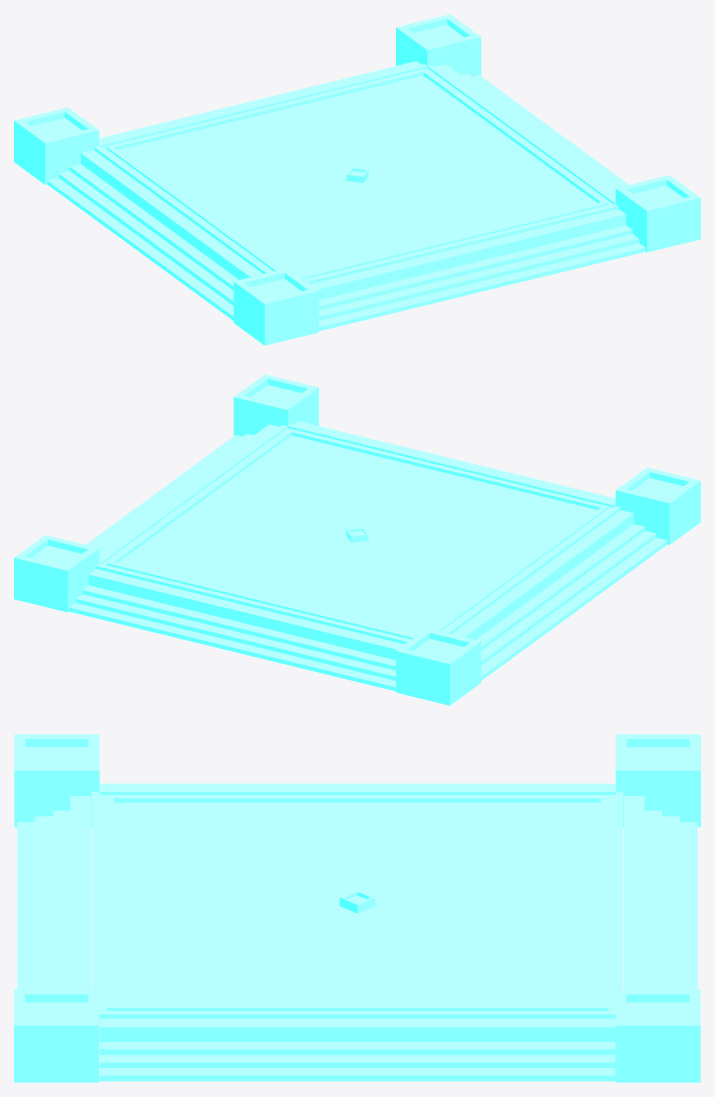
File: Bmap.fbx
The picture shows the model from 3 angles, top to bottom: view 1: azimuth 30°, elevation 25°; view 2: azimuth 150°, elevation 25°; view 3: azimuth 270°, elevation 25°; orthographic projection. The views are drawn at different scales.
Visible parts, largest first — view 1: FortFloor_Lithos_01_Bmap, FortFloor_Lithos_02_Bmap; view 2: FortFloor_Lithos_01_Bmap, FortFloor_Lithos_02_Bmap; view 3: FortFloor_Lithos_01_Bmap, FortFloor_Lithos_02_Bmap.
Part boxes in pixels (box(x1,y1,x2,y2)): FortFloor_Lithos_01_Bmap: box(14, 14, 700, 345); FortFloor_Lithos_02_Bmap: box(117, 75, 597, 275); FortFloor_Lithos_01_Bmap: box(14, 374, 700, 705); FortFloor_Lithos_02_Bmap: box(117, 435, 597, 635); FortFloor_Lithos_01_Bmap: box(14, 734, 700, 1082); FortFloor_Lithos_02_Bmap: box(114, 802, 600, 1004).
Bounding box in the file's own units: 5 × 0.4549 × 4.98.
